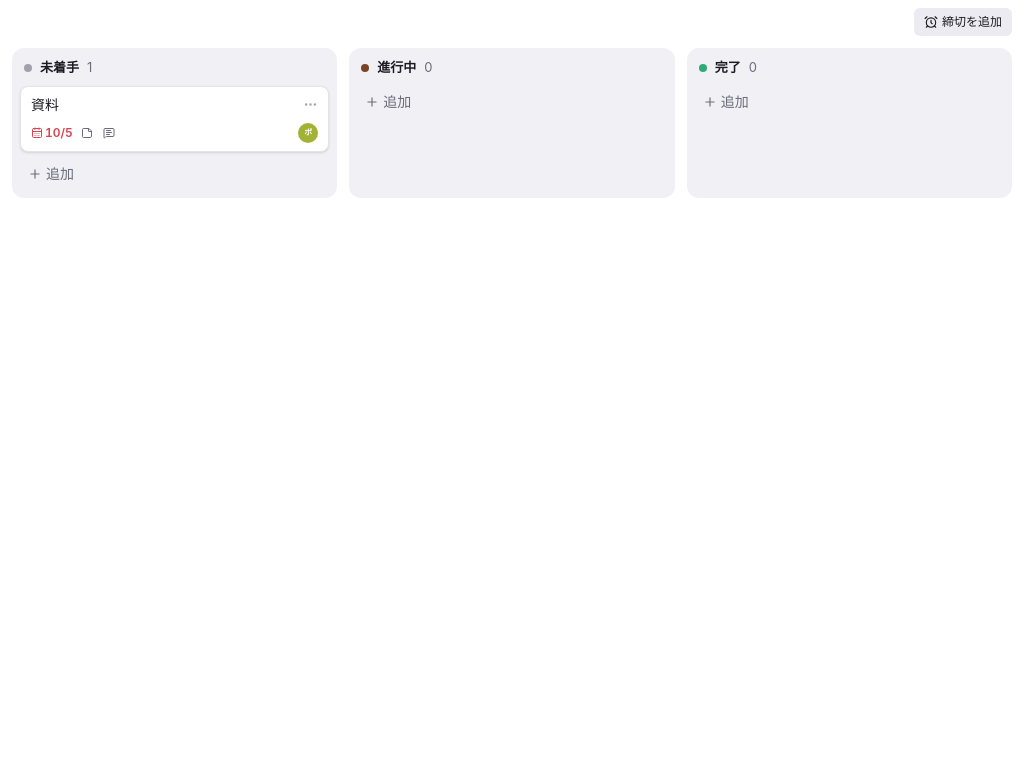
Scenario: the task dialog › opens prefilled from a card and saves only what changed
Click the button "資料" at (161, 104), box [31,94,290,114]
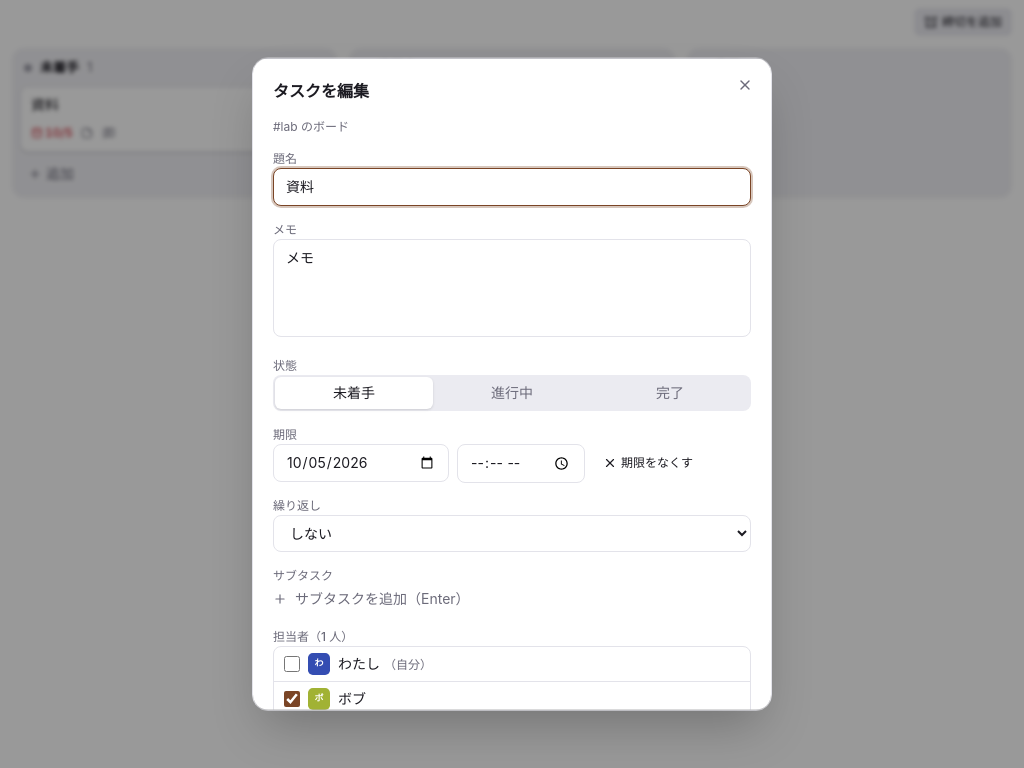
Check: the field labelled "題名" holds "資料"
Check: the text box labelled "メモ" holds "メモ", box [273,239,751,337]
Check: the date field named "期限" holds "2026-10-05", box [273,444,449,482]
Replace the text in the field labelled "題名" with "資料をまとめる" at (512, 187), box [273,168,751,206]
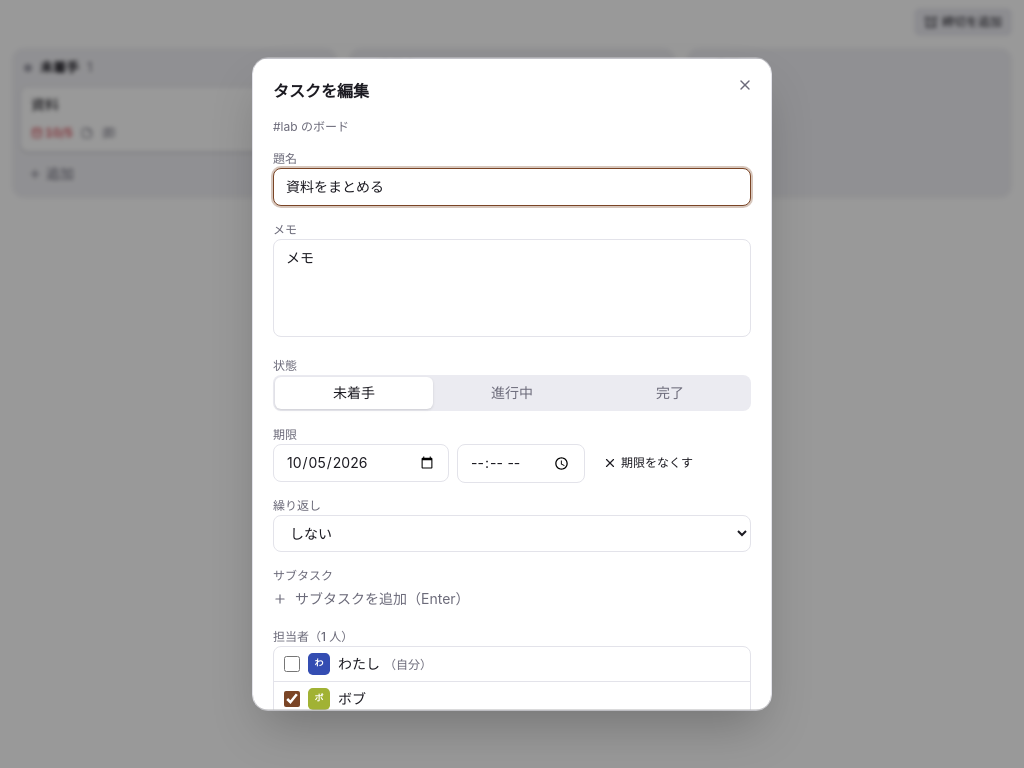
Click the radio button labelled "進行中" at (512, 393), box [433,377,591,409]
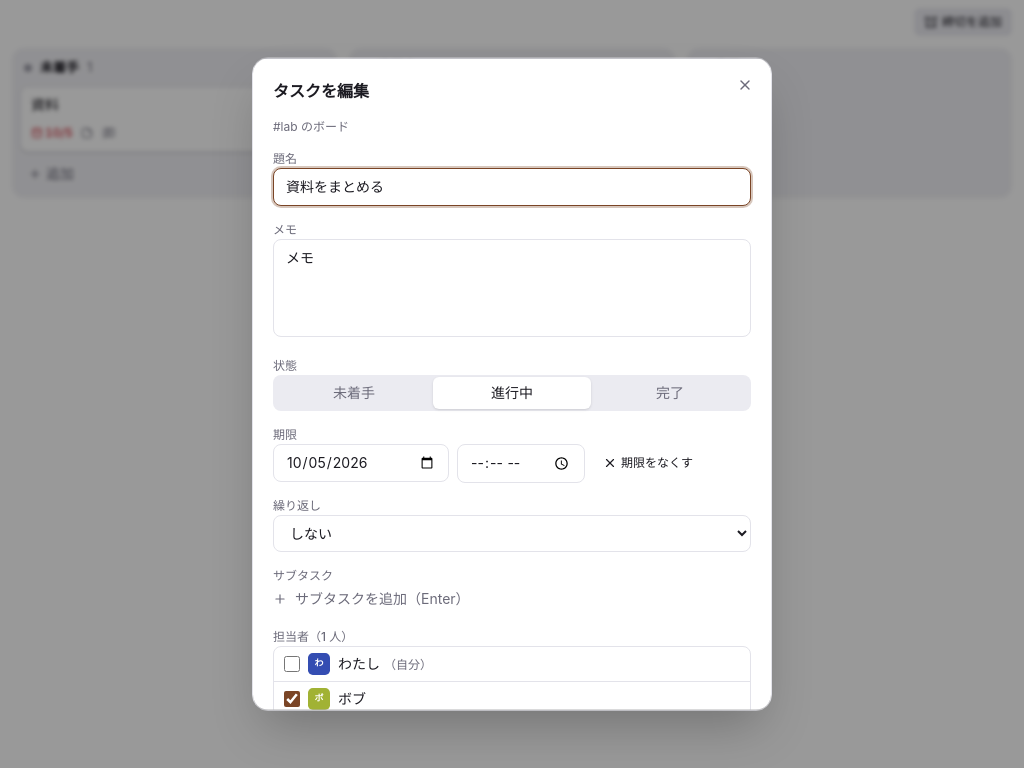
Click the checkbox labelled "わたし" at (292, 663), box [284,655,300,671]
(page scrolled)
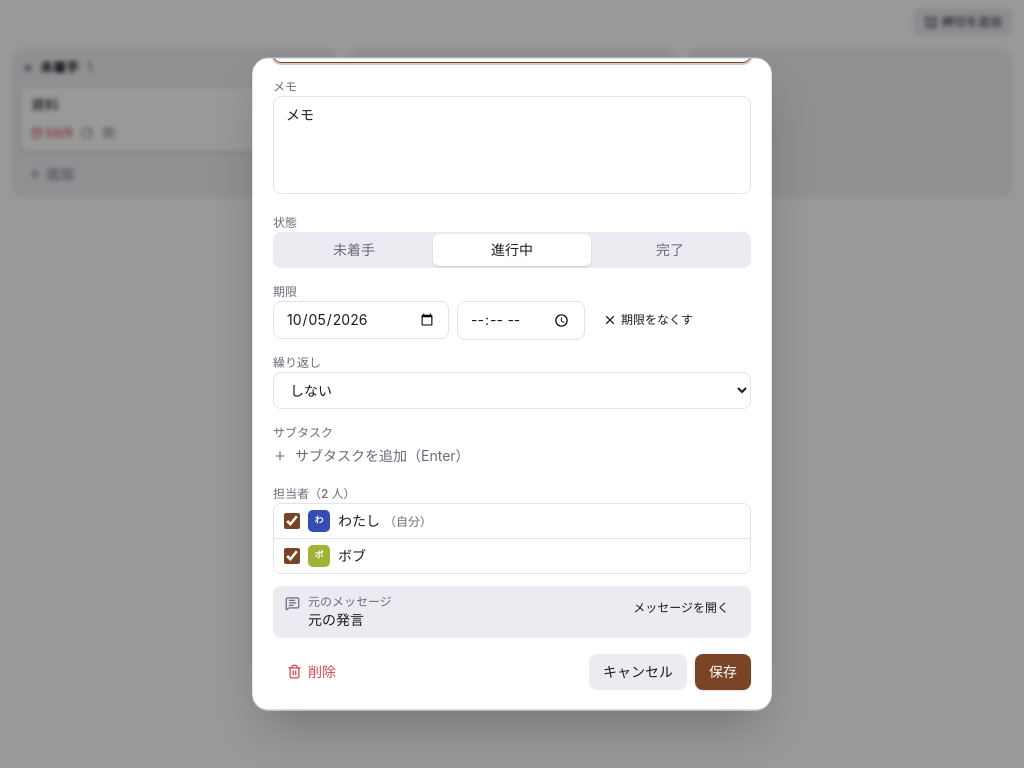
Click the button "保存" at (723, 671), box [695,653,751,689]
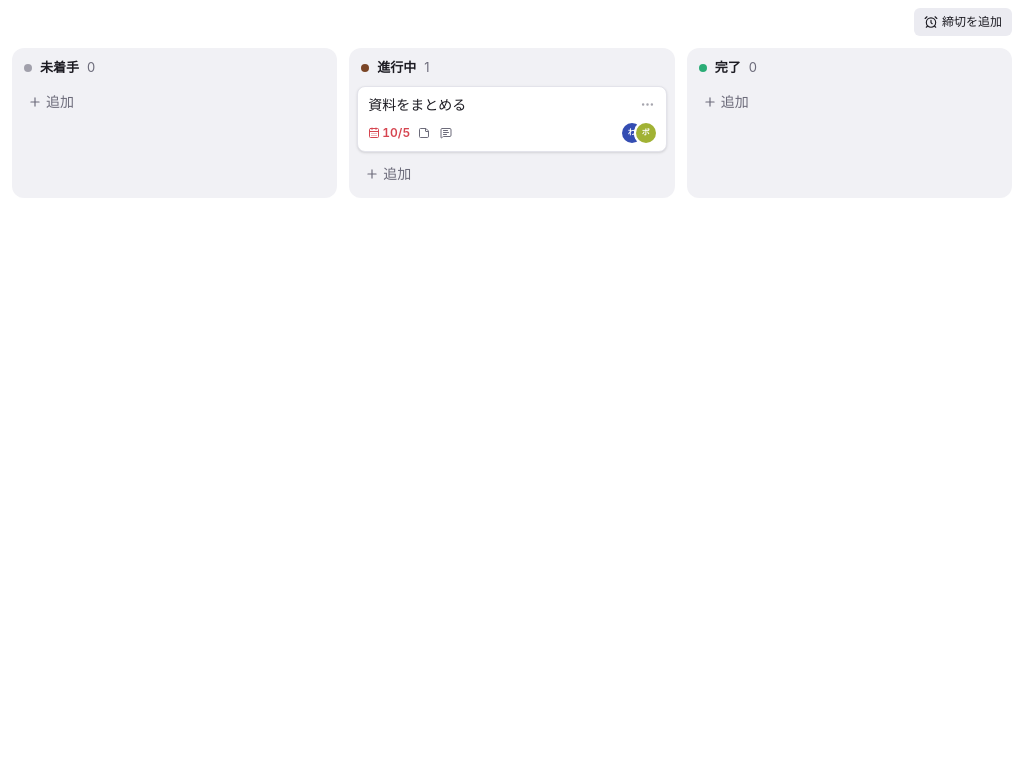
Check: the dialog is gone
